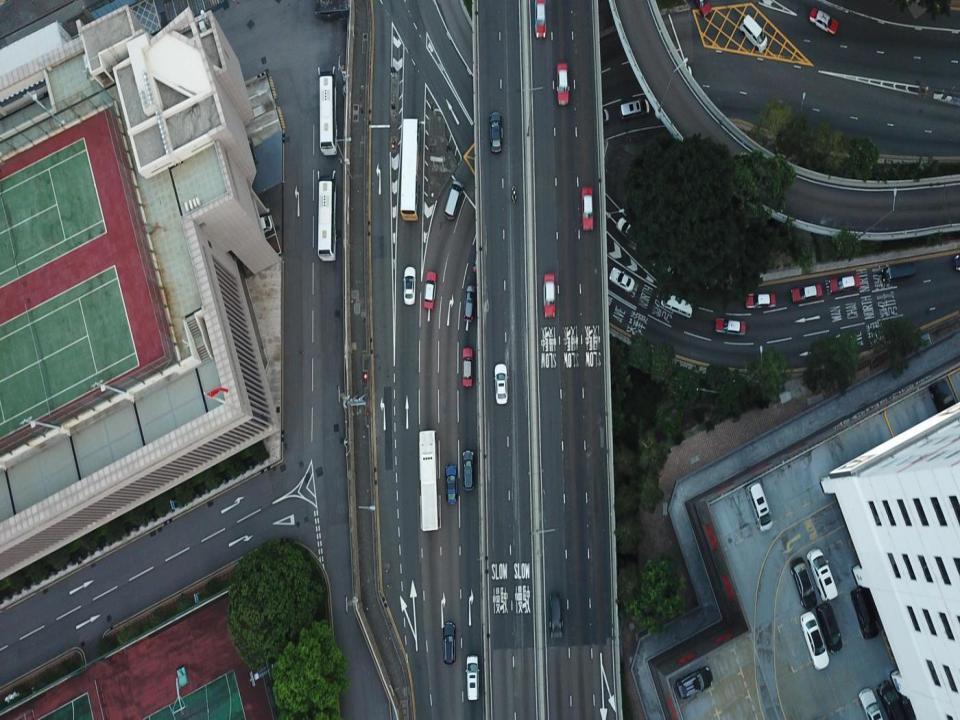bus: (418, 429, 440, 530), (317, 65, 338, 155), (316, 168, 336, 261), (400, 118, 418, 220)
car: (800, 611, 830, 670), (806, 548, 836, 601), (789, 556, 817, 610), (816, 604, 843, 652), (676, 666, 713, 698), (878, 681, 907, 719), (808, 5, 838, 34), (542, 271, 558, 319), (859, 689, 882, 719), (549, 592, 563, 639), (608, 266, 634, 291), (466, 655, 480, 701), (616, 216, 638, 245), (556, 61, 570, 106), (829, 273, 860, 293), (444, 463, 459, 503), (494, 364, 509, 404), (792, 284, 822, 304), (744, 292, 776, 310), (581, 187, 594, 231), (472, 233, 486, 273), (490, 112, 503, 154), (533, 0, 547, 39), (423, 270, 436, 310), (462, 448, 475, 488), (715, 317, 745, 334), (443, 622, 455, 664), (402, 266, 415, 304), (463, 284, 476, 321), (462, 346, 473, 386), (246, 217, 272, 233), (584, 108, 610, 123), (669, 64, 691, 79), (697, 0, 711, 15)
van: (850, 585, 879, 640), (929, 377, 956, 426), (747, 481, 772, 532), (738, 13, 766, 51), (662, 291, 692, 318), (444, 181, 463, 219), (882, 260, 915, 280), (619, 99, 649, 118)
